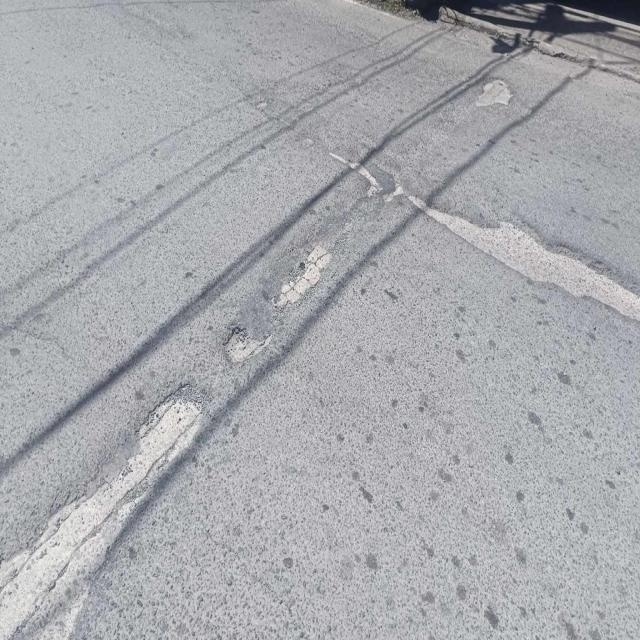pothole: (334, 125, 640, 360), (0, 365, 231, 640), (274, 218, 352, 364), (459, 46, 541, 162), (214, 285, 282, 422)
